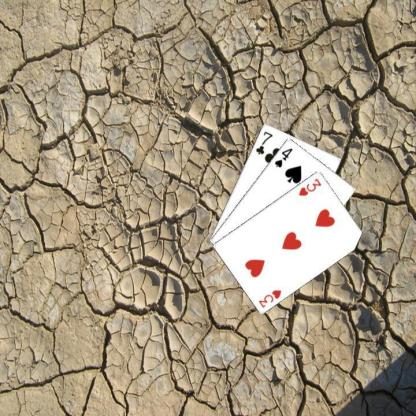3H: (256, 287, 282, 309), (296, 176, 322, 197)
4S: (272, 145, 294, 169)
7C: (253, 128, 274, 156)
